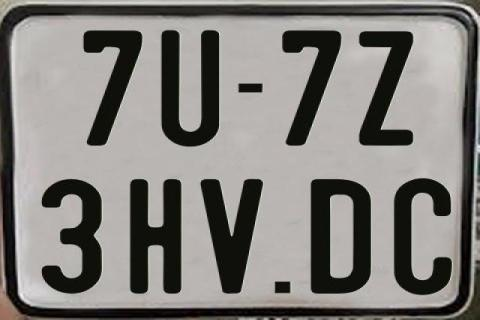0: (82, 28, 147, 146), (40, 178, 102, 294), (279, 29, 338, 145)
C: (392, 178, 454, 294)
D: (312, 179, 374, 293)
H: (128, 178, 181, 294)
U: (159, 30, 217, 146)
V: (198, 179, 267, 299)
Z: (356, 29, 414, 147)
